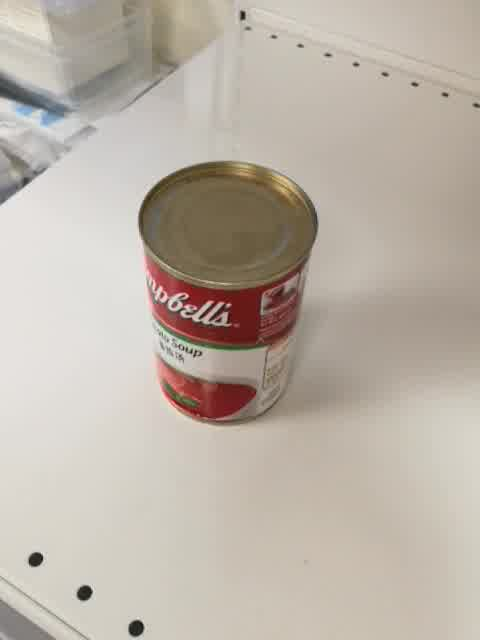tomatosoup: (135, 160, 318, 428)
